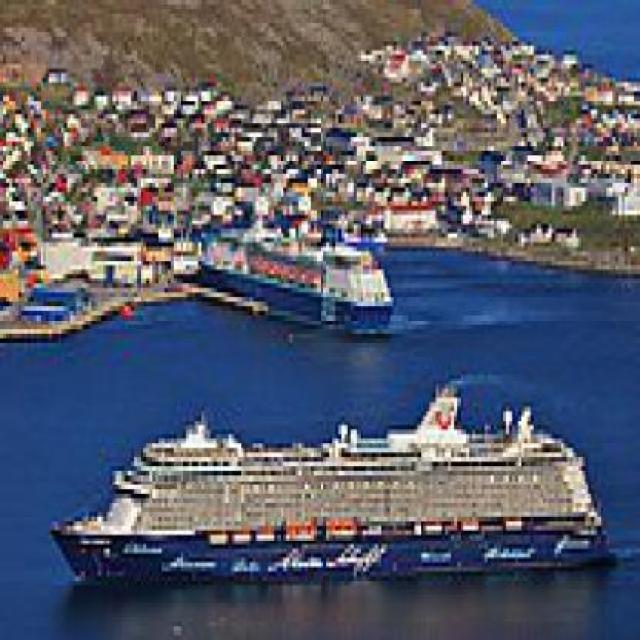cruise: (50, 412, 627, 605)
